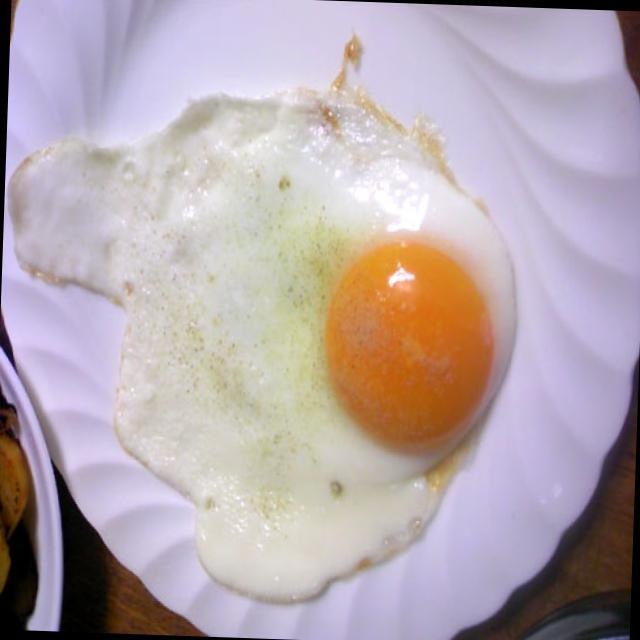Egg: (0, 76, 530, 612)
